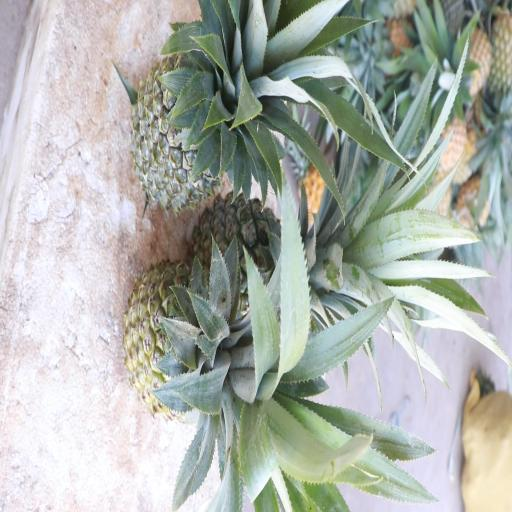------------------------------: (122, 254, 256, 428)
Pineapple - v8 v1: (111, 451, 111, 451)
